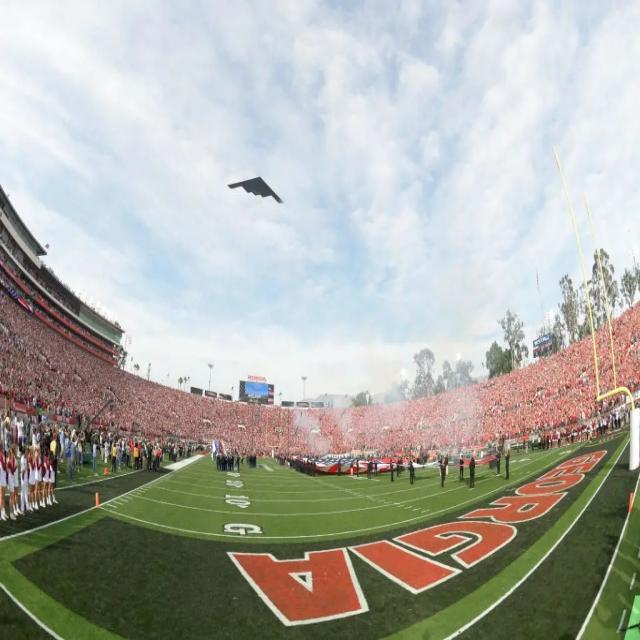MIL_Plane: (98, 177, 156, 203)
